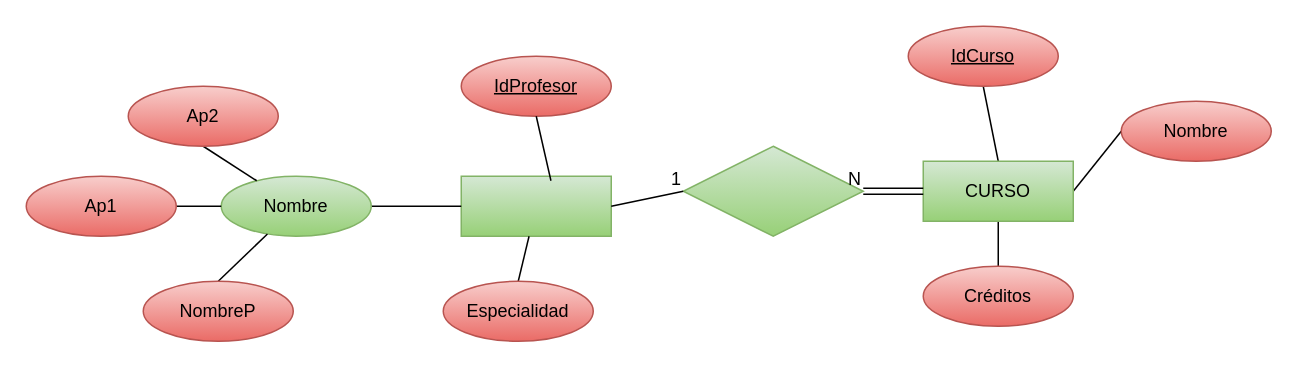
The diagram is 1298 pixels wide and 368 high, and some of its shapes have lost their labels. The centre of each missing label's shape, as x and y in pixels:
"IMPARTE" belongs at point 772,190.
"PROFESOR" belongs at point 535,205.
